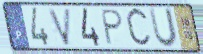4: (29, 6, 52, 48), (81, 7, 102, 48)
C: (124, 6, 153, 50)
P: (100, 8, 125, 47)
U: (147, 6, 179, 50)
V: (47, 7, 73, 47)
